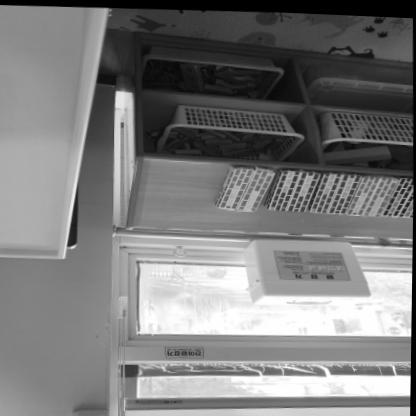DDL: (245, 233, 370, 305)
